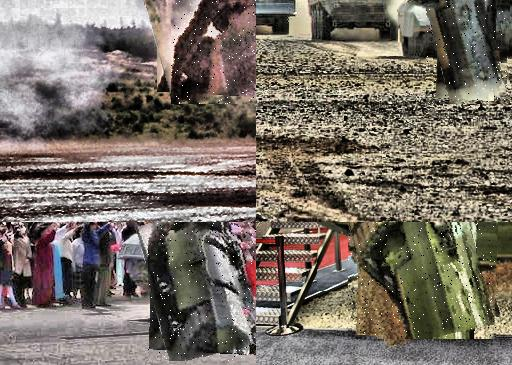tanks: (349, 223, 497, 339), (149, 223, 257, 362), (173, 1, 257, 105), (428, 1, 509, 104), (309, 1, 400, 41), (257, 1, 297, 34)
